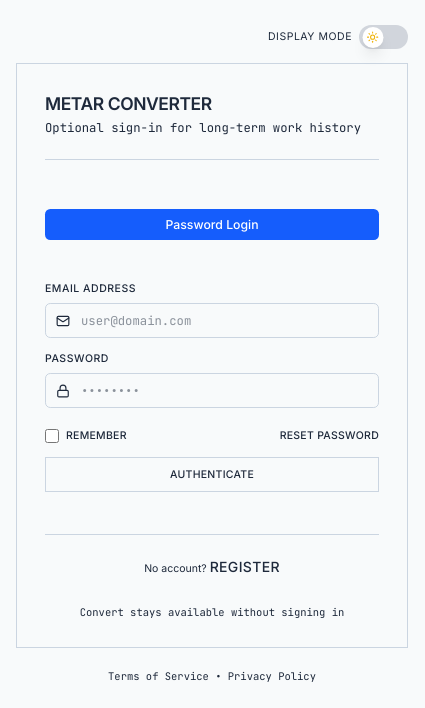
Login › shows short password validation error
Type "user@example.com" into the field labelled "Email Address".
click(212, 321); type("user@example.com")  # box left=45, top=303, right=379, bottom=338
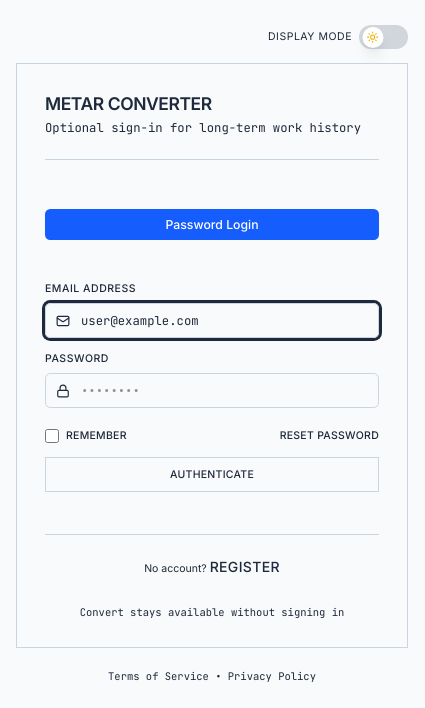
Type "123" into the password field labelled "Password".
click(212, 391); type("123")  # box left=45, top=373, right=379, bottom=408
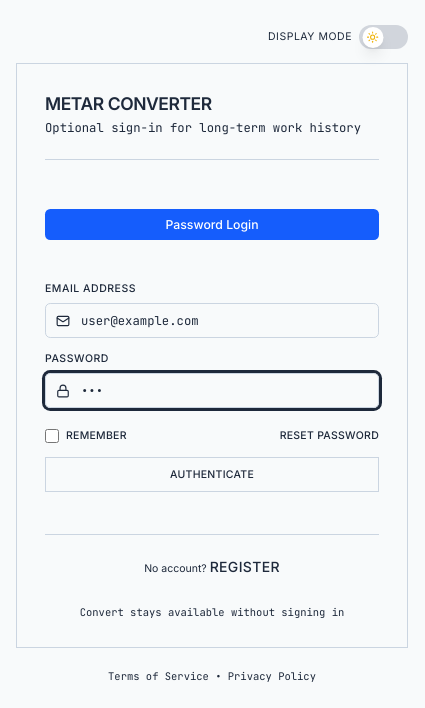
Click the button with aria-label "sign in to account".
click(212, 475)  # box left=45, top=457, right=379, bottom=492
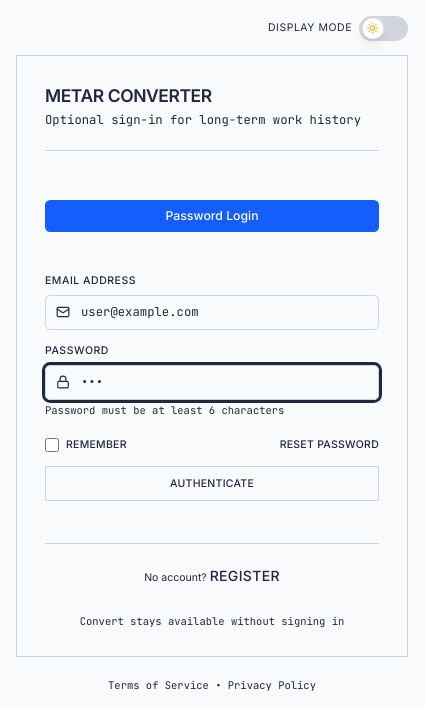
Check: the text "Password must be at least 6 characters" is shown, box left=45, top=403, right=284, bottom=417
